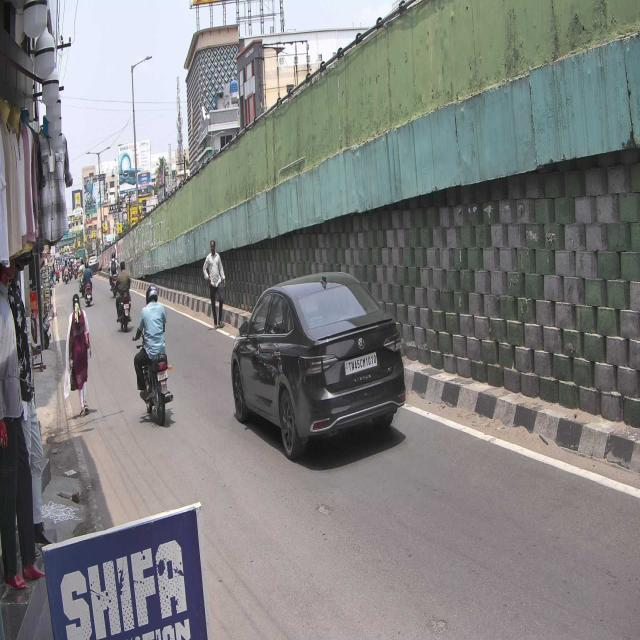single_rider: (133, 284, 173, 429)
